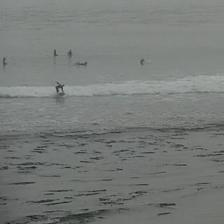surfer: (55, 82, 65, 92), (76, 61, 88, 66), (2, 57, 7, 64), (54, 49, 58, 56), (140, 58, 144, 65), (68, 50, 73, 55)
